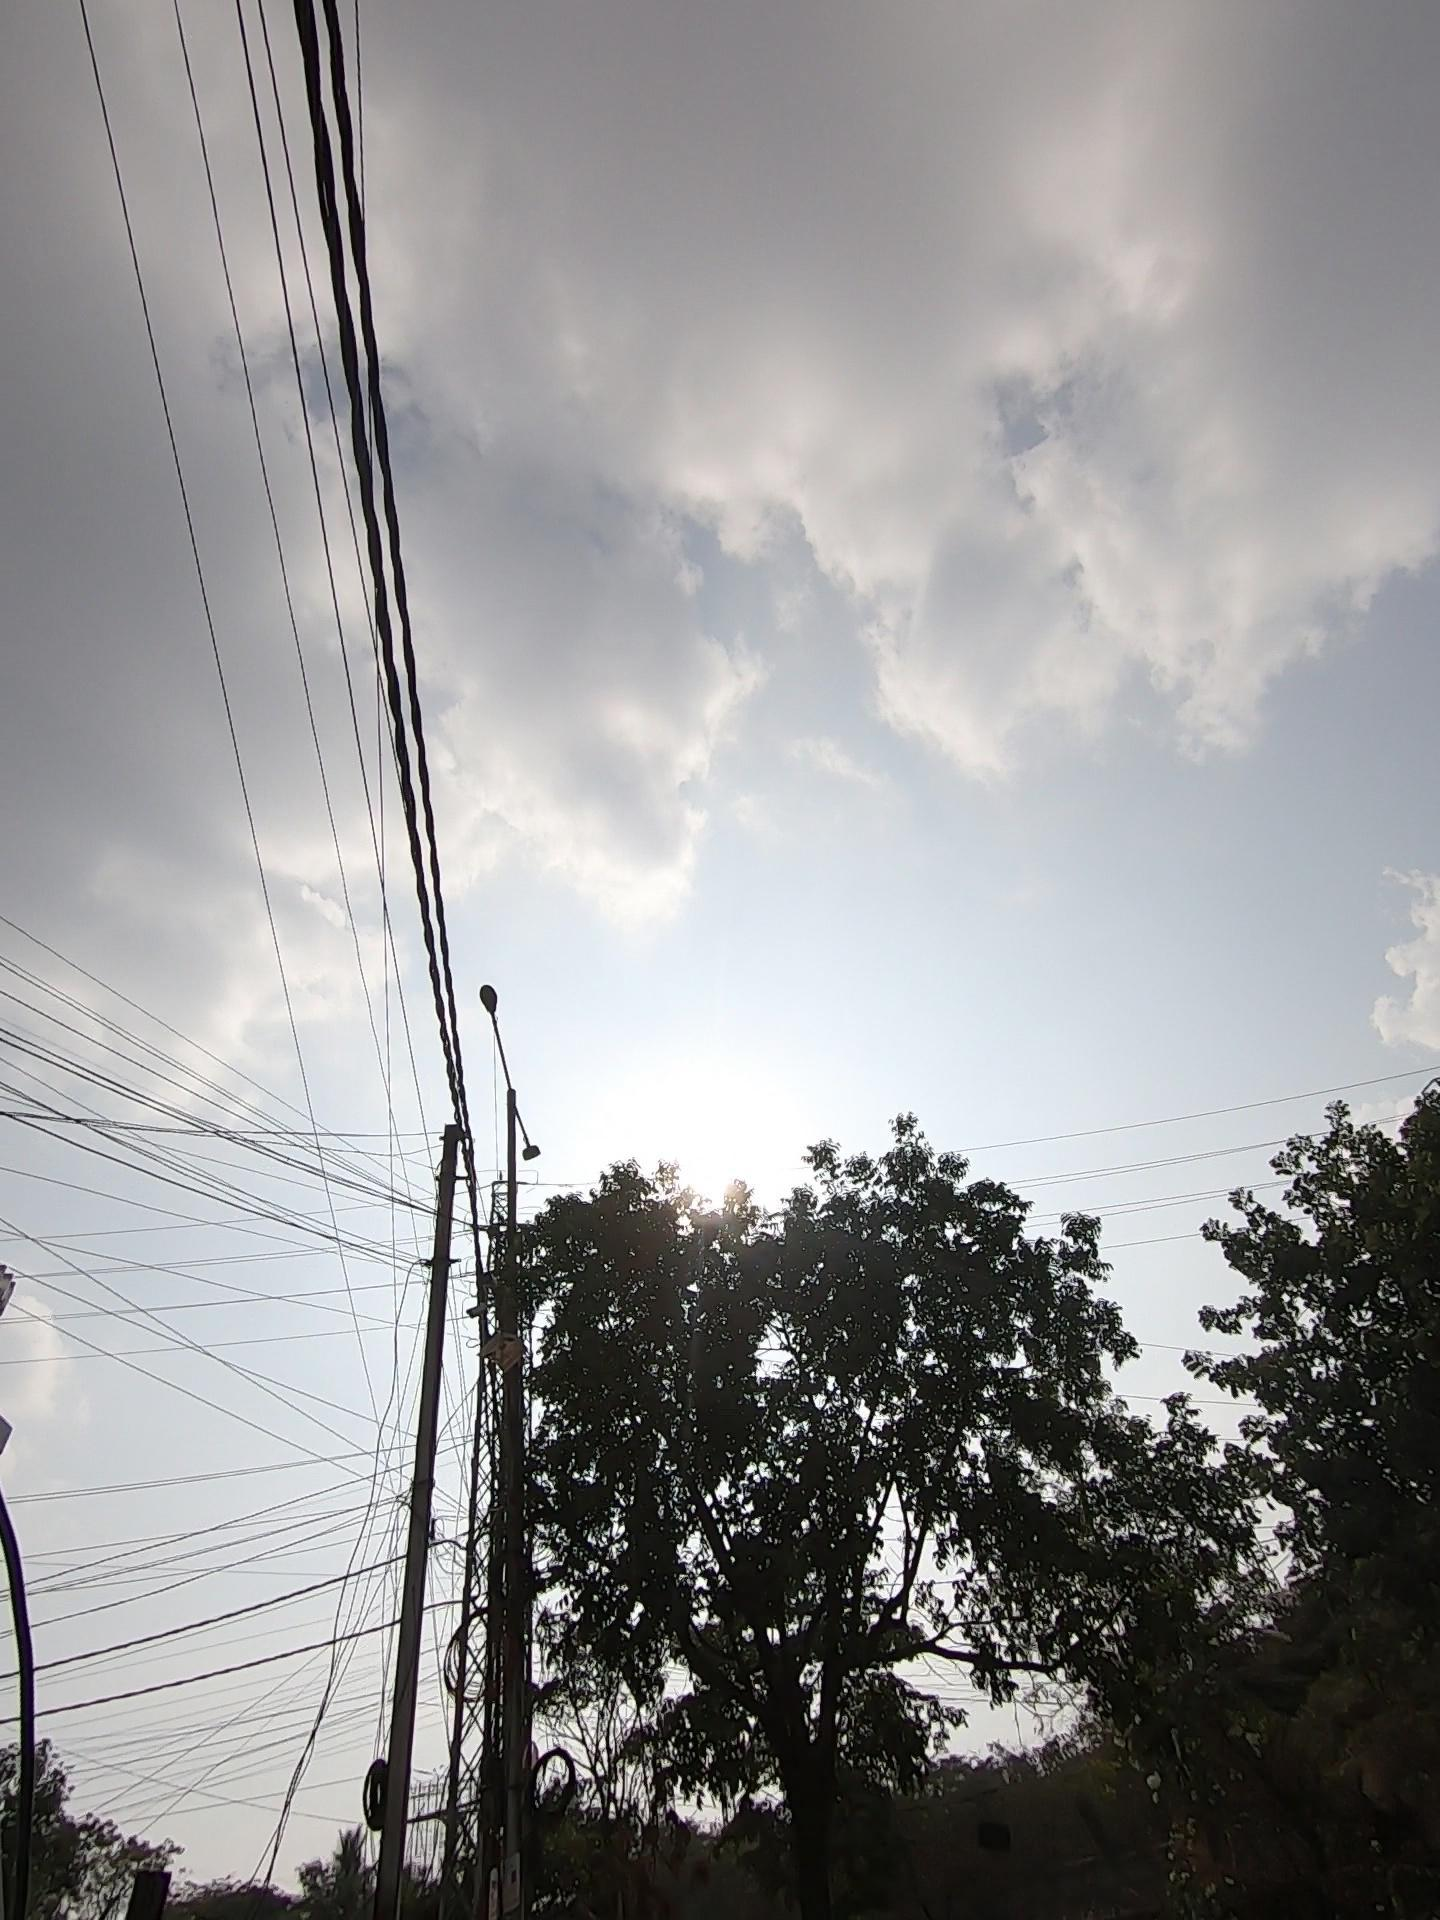off: (371, 875, 640, 1279)
